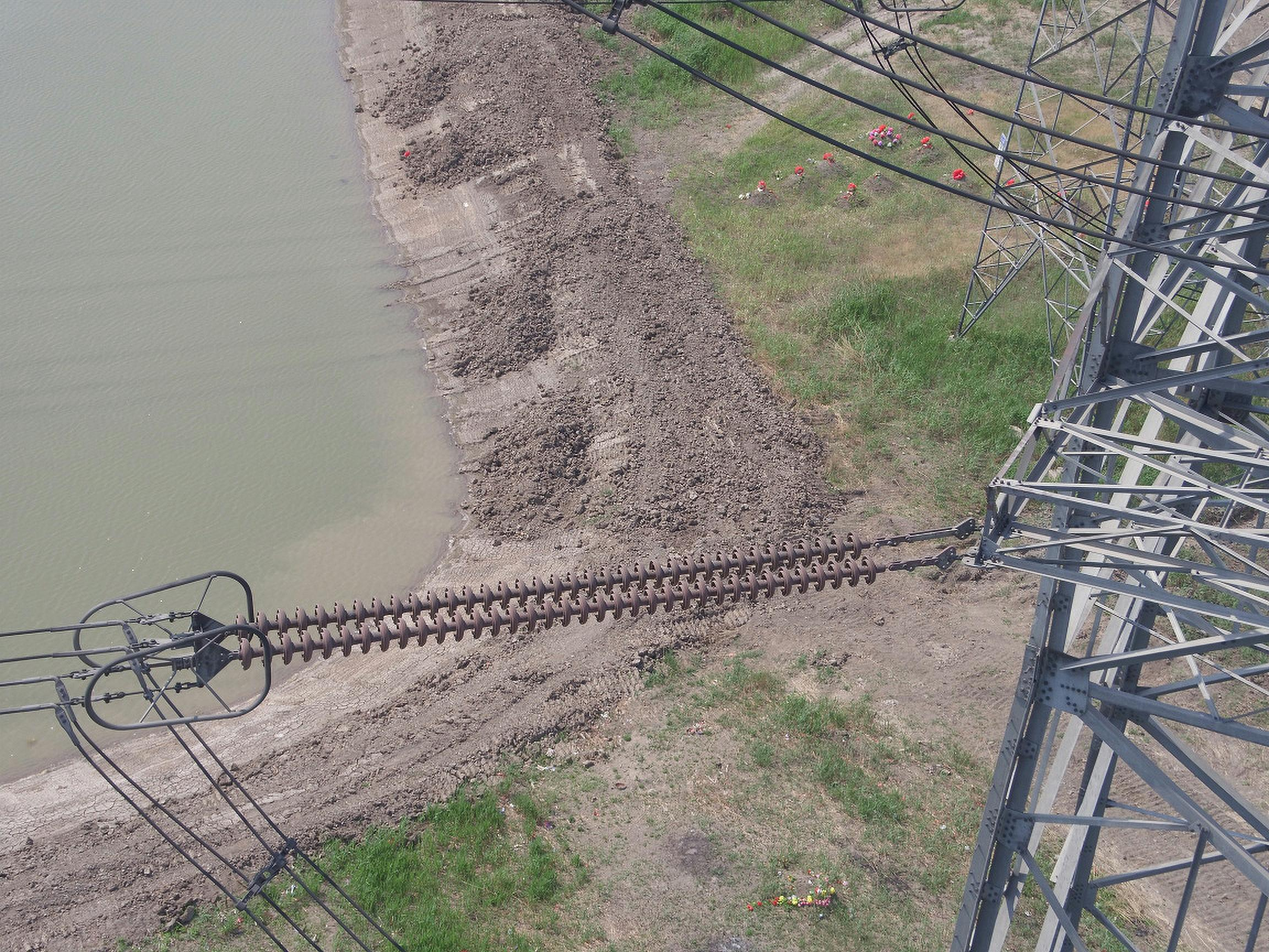insulator: (230, 528, 878, 673)
